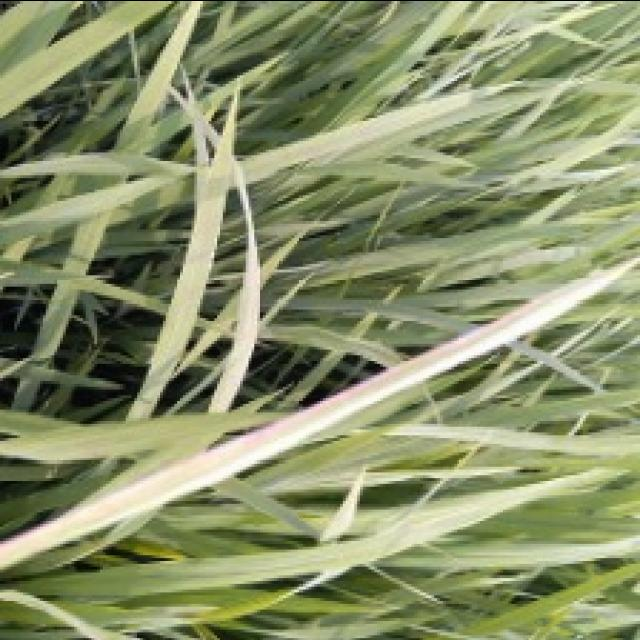Unhealthy: (0, 282, 569, 571)
